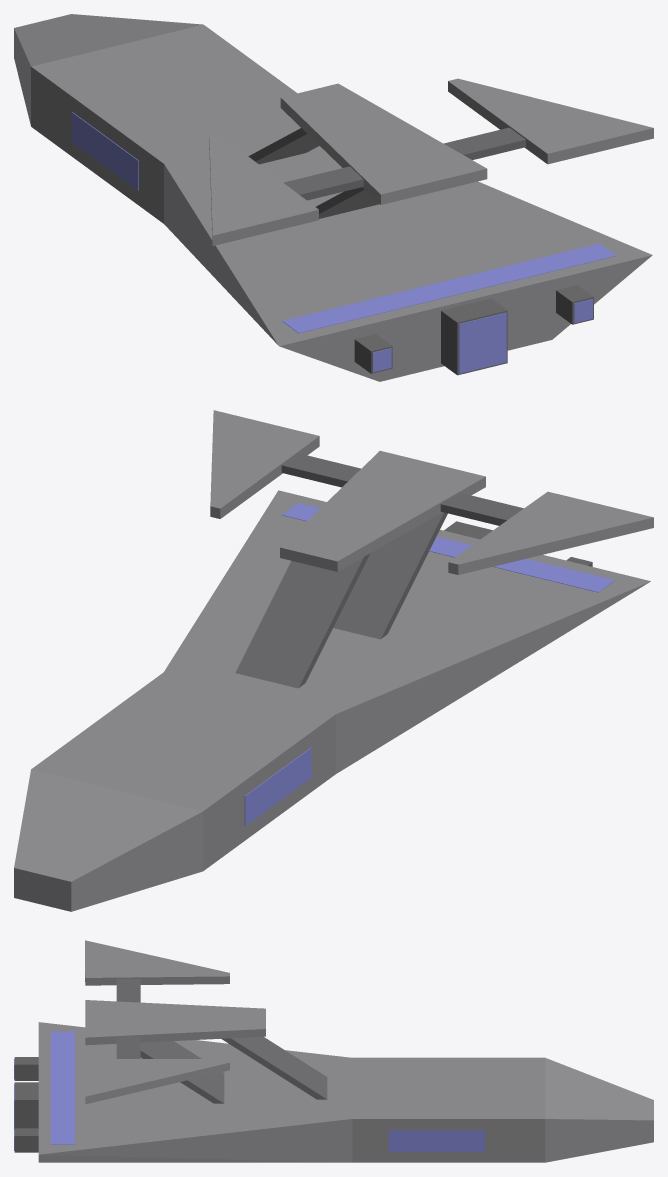
File: Not Lylat Cruise.fbx
The picture shows the model from 3 angles, top to bottom: view 1: azimuth 30°, elevation 25°; view 2: azimuth 150°, elevation 25°; view 3: azimuth 270°, elevation 25°; orthographic projection. The views are drawn at different scales.
Visible parts, largest first — view 1: Not Lylat Cruise; view 2: Not Lylat Cruise; view 3: Not Lylat Cruise.
Boxes of the visible parts, <box> form: Not Lylat Cruise: <box>14,14,653,381</box>; Not Lylat Cruise: <box>14,410,653,911</box>; Not Lylat Cruise: <box>14,940,653,1162</box>.
Size of the model in its own units: 3070 by 1051 by 5305.
